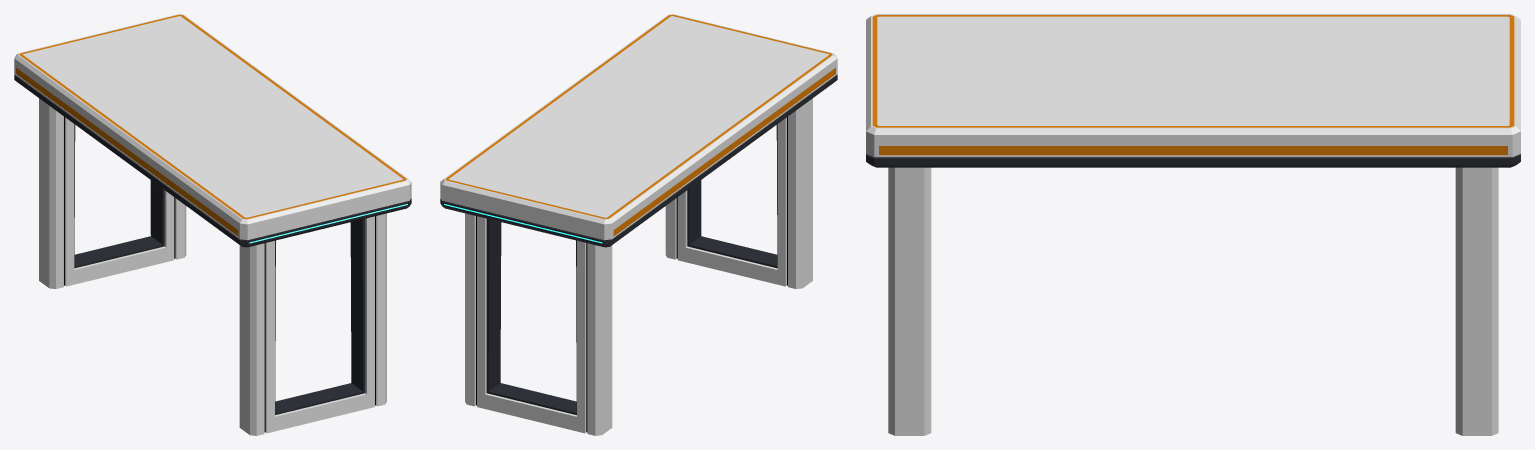
File: galley_counter.glb
3 renders of one model, left to right at view 1: azimuth 30°, elevation 25°; view 2: azimuth 150°, elevation 25°; view 3: azimuth 270°, elevation 25°, orthographic. The views are drawn at different scales.
Parts seen in each view (by area): view 1: SM_UtilityTable; view 2: SM_UtilityTable; view 3: SM_UtilityTable.
Part boxes in pixels (left/top/right/bottom): SM_UtilityTable: left=14, top=14, right=411, bottom=435; SM_UtilityTable: left=440, top=14, right=837, bottom=435; SM_UtilityTable: left=866, top=14, right=1520, bottom=435.
Size of the model in its own units: 0.6 by 0.7489 by 1.4.
